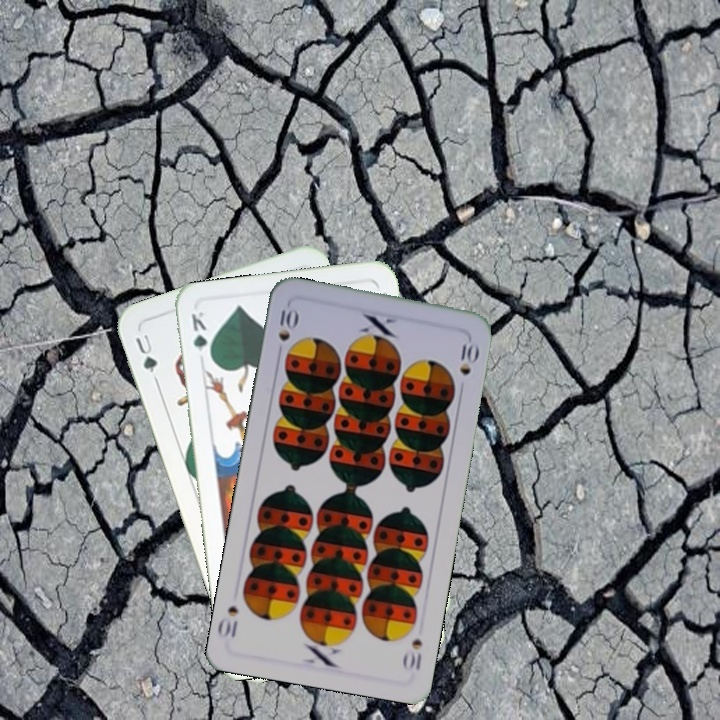GK: (187, 307, 214, 365)
GU: (131, 330, 160, 376)
S10: (273, 302, 300, 360), (399, 634, 425, 673)
